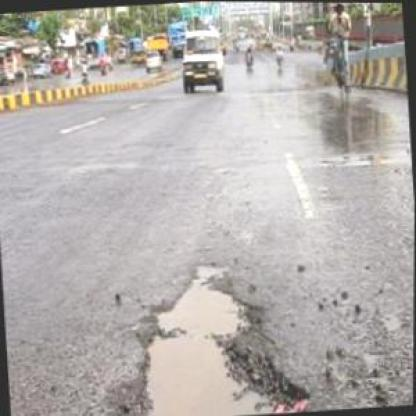pothole: (97, 264, 316, 414)
